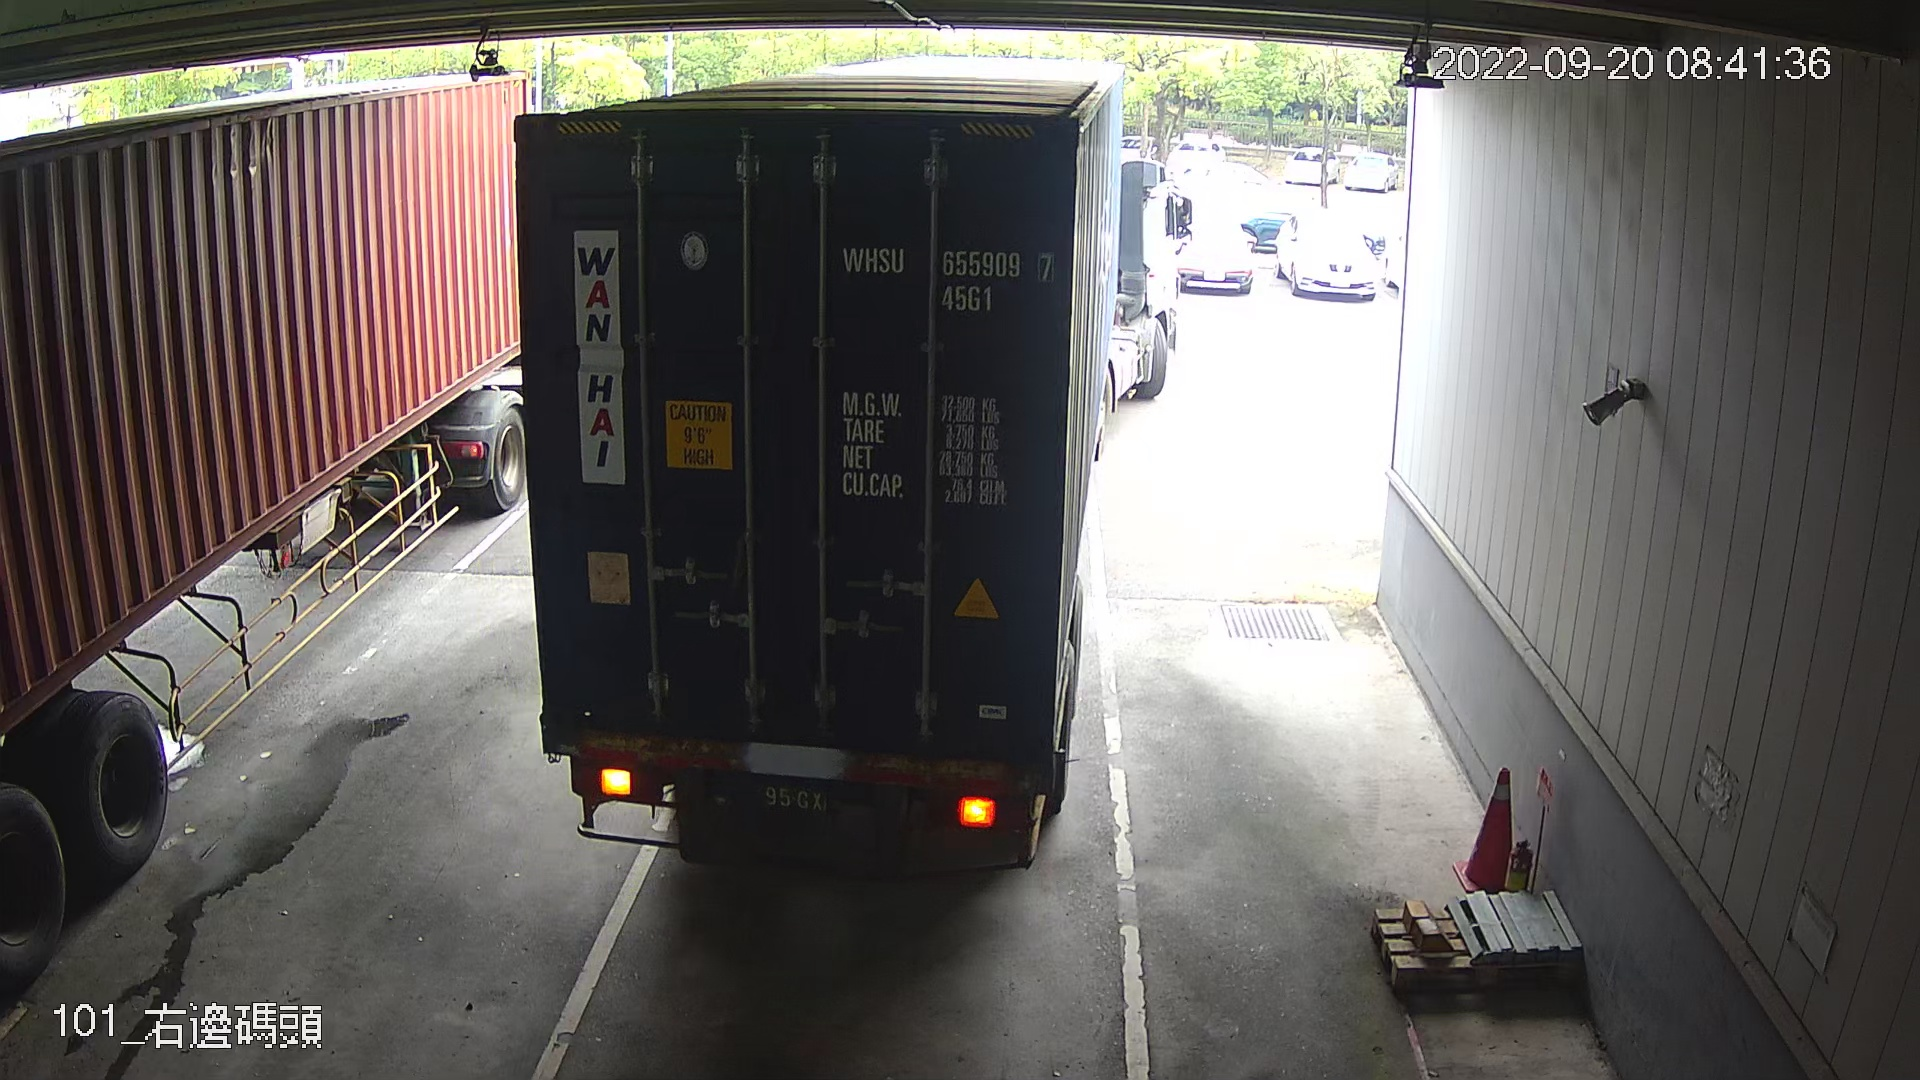container: (837, 235, 1062, 322)
